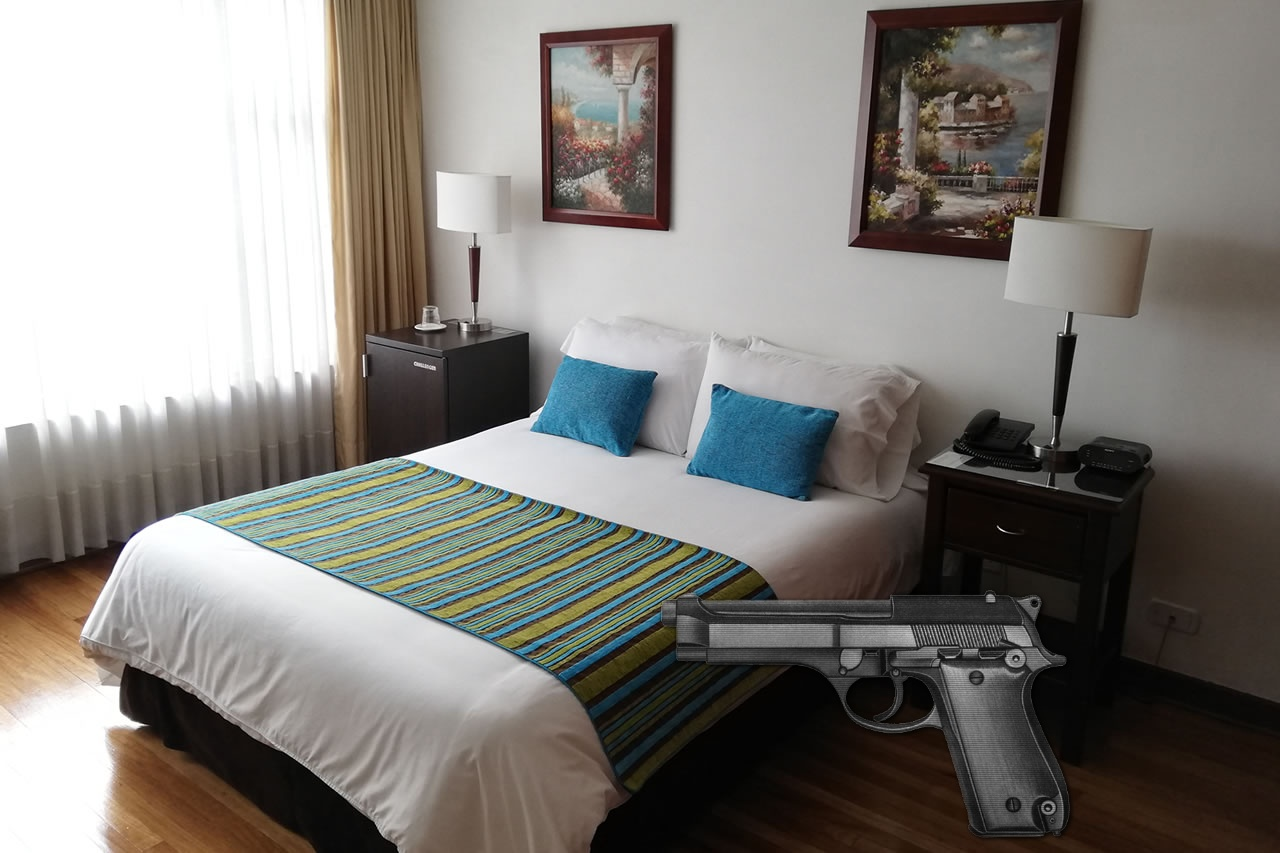gun.png: (659, 588, 1082, 847)
